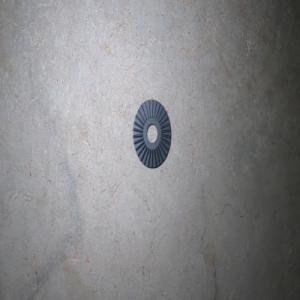Washer: (132, 99, 171, 168)
